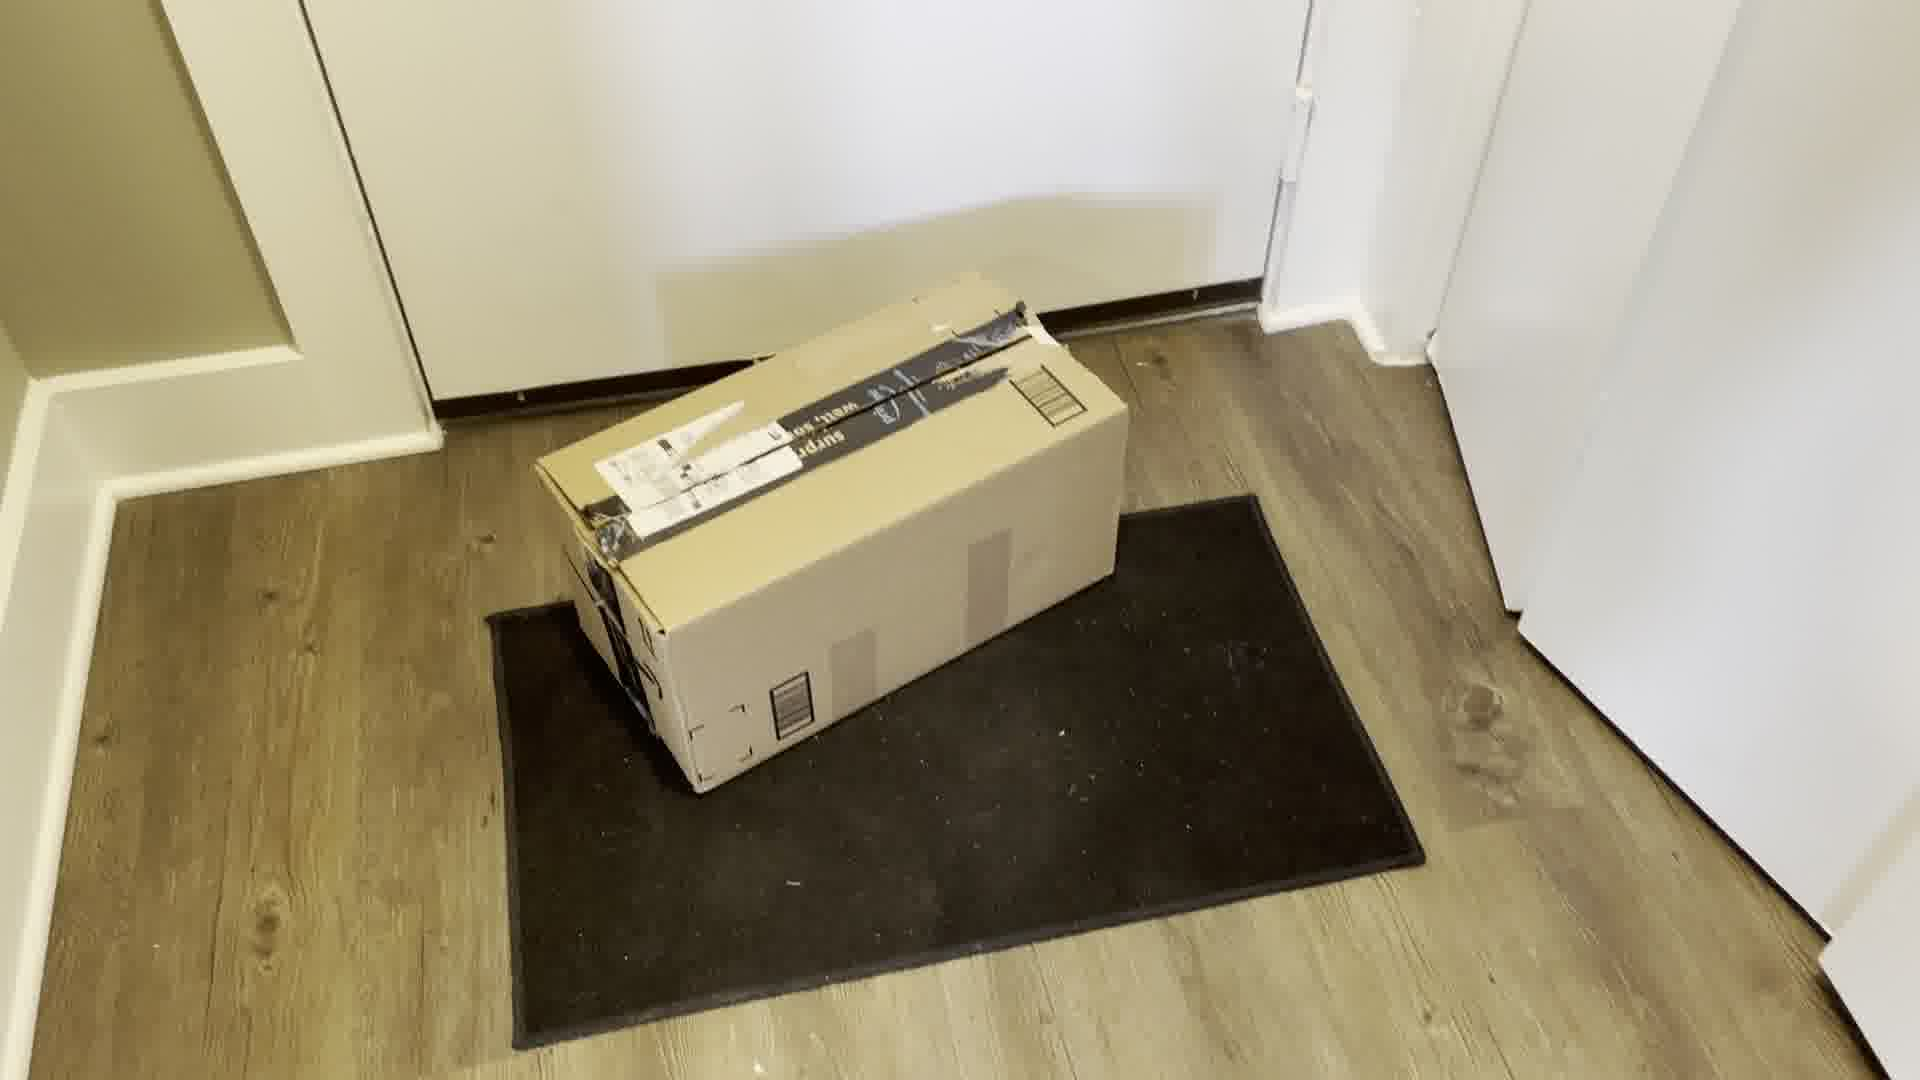box: (500, 305, 1159, 779)
